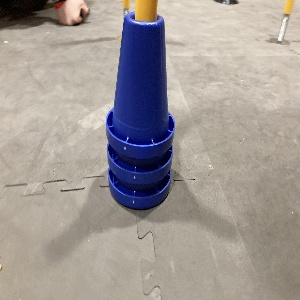Blue_3: (106, 12, 174, 210)
